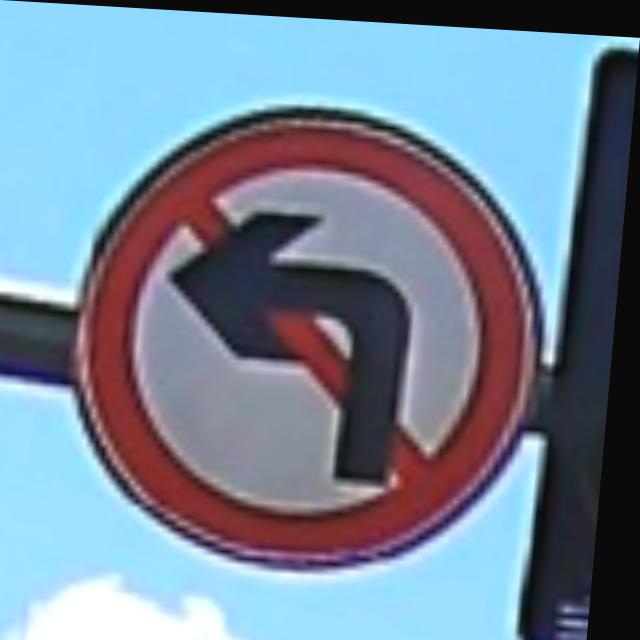not_turn_left: (88, 92, 553, 562)
